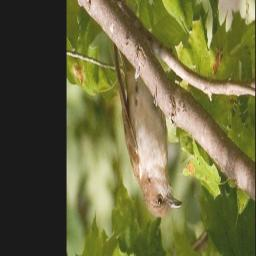Cuckoo: (105, 0, 184, 223)
